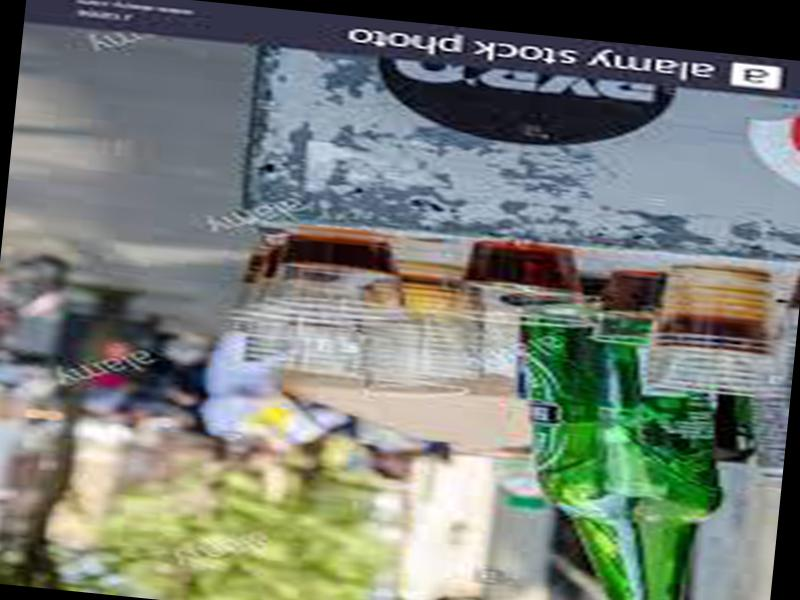Beer: (485, 279, 744, 600)
